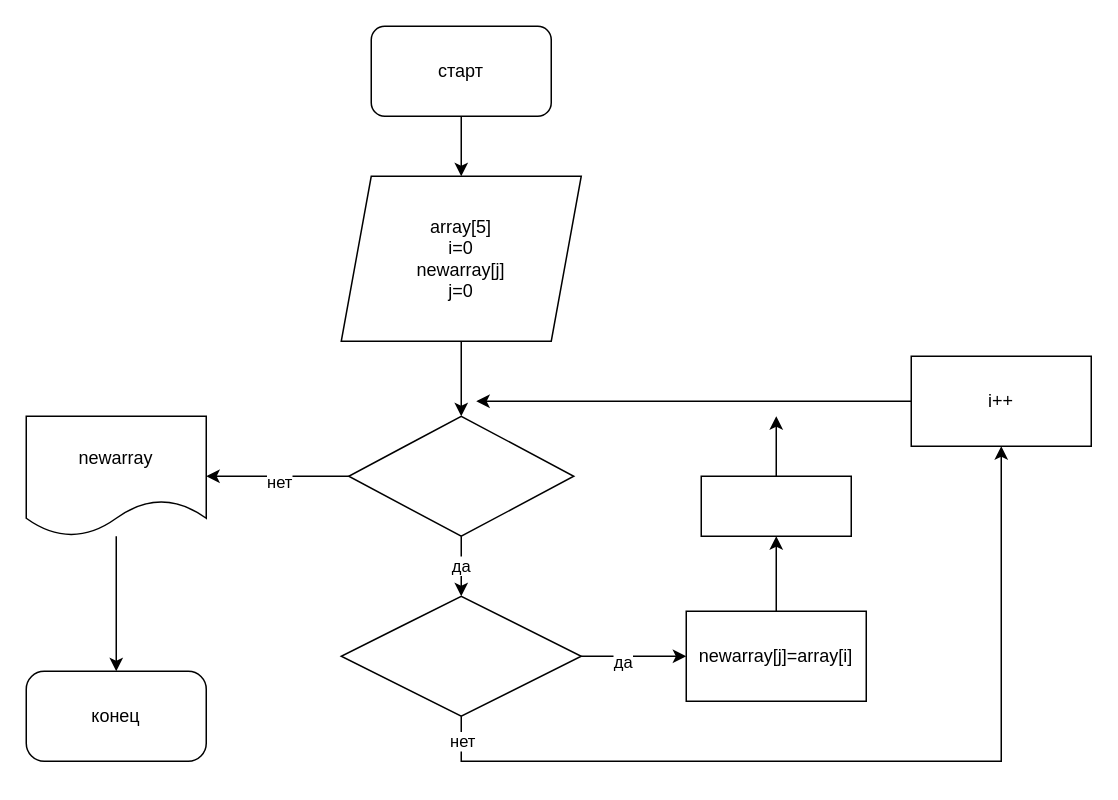
Image size: 1118x800. Some labels were removed from this diagram. The centre of each missing label's shape, as x and y in pixels:
"array[i].Length>3" goes at point 460,655.
"i<array.Length" goes at point 460,475.
"j++" goes at point 775,505.
